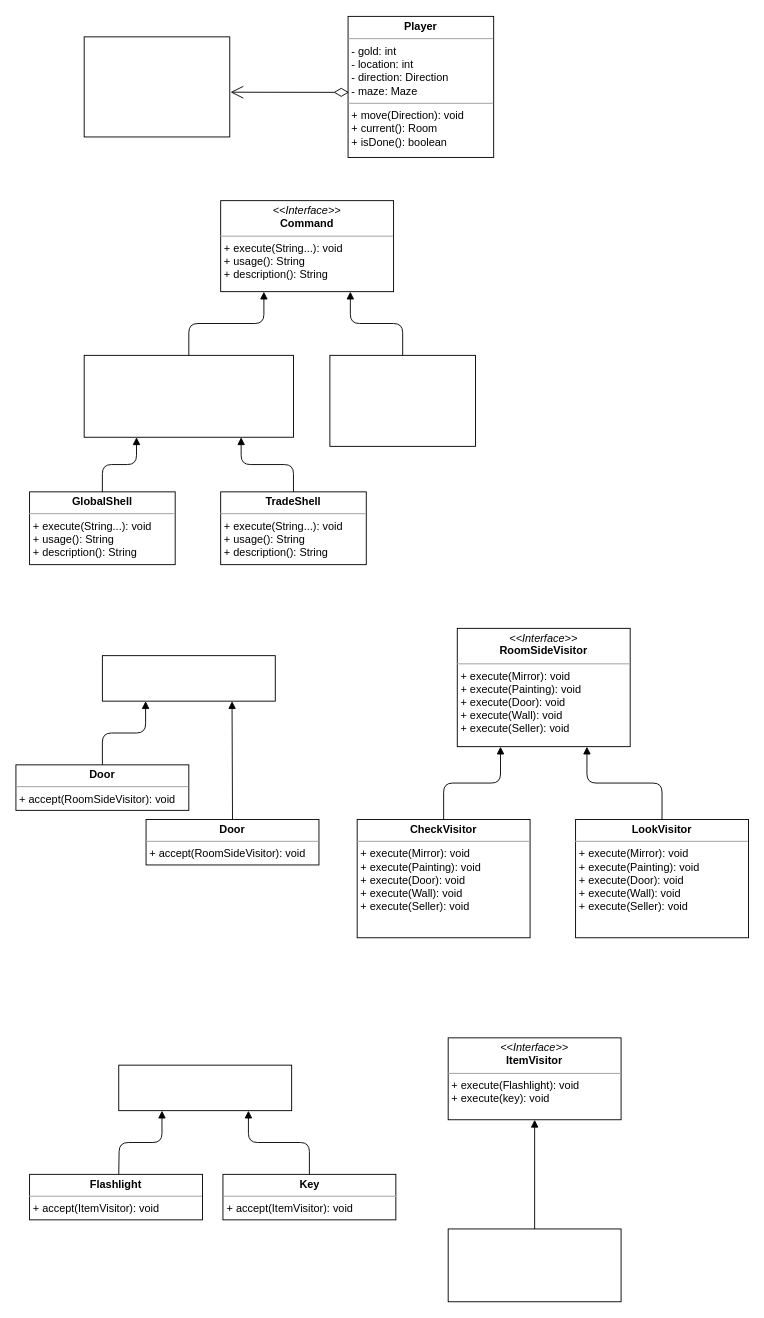
Some shapes in this 764 by 1318 pixel diagram are drawn without their labels. Each missing label, with the box of its shape:
Item + accept(ItemVisitor): void: (118, 1064, 292, 1111)
Maze - gold: int - location: int - direction: Direction + player(): Player: (83, 36, 230, 137)
MoveCommand - player: Player - output: Output + exceute(String...): void: (329, 354, 475, 446)
RoomSide + accept(RoomSideVisitor): void: (101, 655, 275, 701)
Shell - commands: Map<String, Command> + execute(String...): void: (83, 354, 293, 437)
UseVisitor + execute(Flashlight): void + execute(key): void: (447, 1228, 621, 1302)
